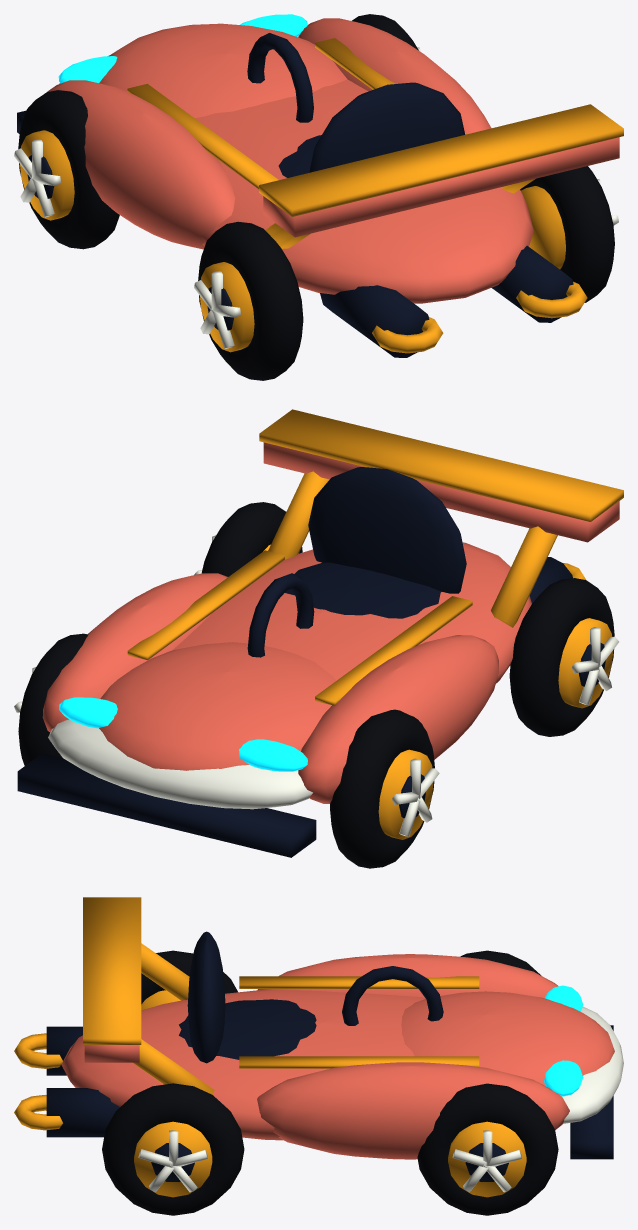
File: kart_coral.glb
3 views of the same model, one above another, from view 1: azimuth 30°, elevation 25°; view 2: azimuth 150°, elevation 25°; view 3: azimuth 270°, elevation 25° (orthographic). The views are drawn at different scales.
Visible parts, largest first — view 1: body, wheel-back-left, wheel-front-left, wheel-back-right, wheel-front-right; view 2: body, wheel-back-left, wheel-front-left, wheel-back-right, wheel-front-right; view 3: body, wheel-back-right, wheel-front-right, wheel-back-left, wheel-front-left.
Boxes of the visible parts, <box> form: body: <box>17,14,623,357</box>; wheel-back-left: <box>194,221,303,380</box>; wheel-front-left: <box>14,90,119,249</box>; wheel-back-right: <box>520,166,618,302</box>; wheel-front-right: <box>352,14,420,51</box>; body: <box>17,409,623,857</box>; wheel-back-left: <box>509,578,619,736</box>; wheel-front-left: <box>330,709,439,868</box>; wheel-back-right: <box>194,502,302,576</box>; wheel-front-right: <box>14,633,88,765</box>; body: <box>14,897,623,1159</box>; wheel-back-right: <box>102,1083,244,1215</box>; wheel-front-right: <box>417,1083,558,1215</box>; wheel-back-left: <box>141,950,237,1010</box>; wheel-front-left: <box>460,950,541,975</box>.
Size of the model in its own units: 2.69 by 1.58 by 4.19.
